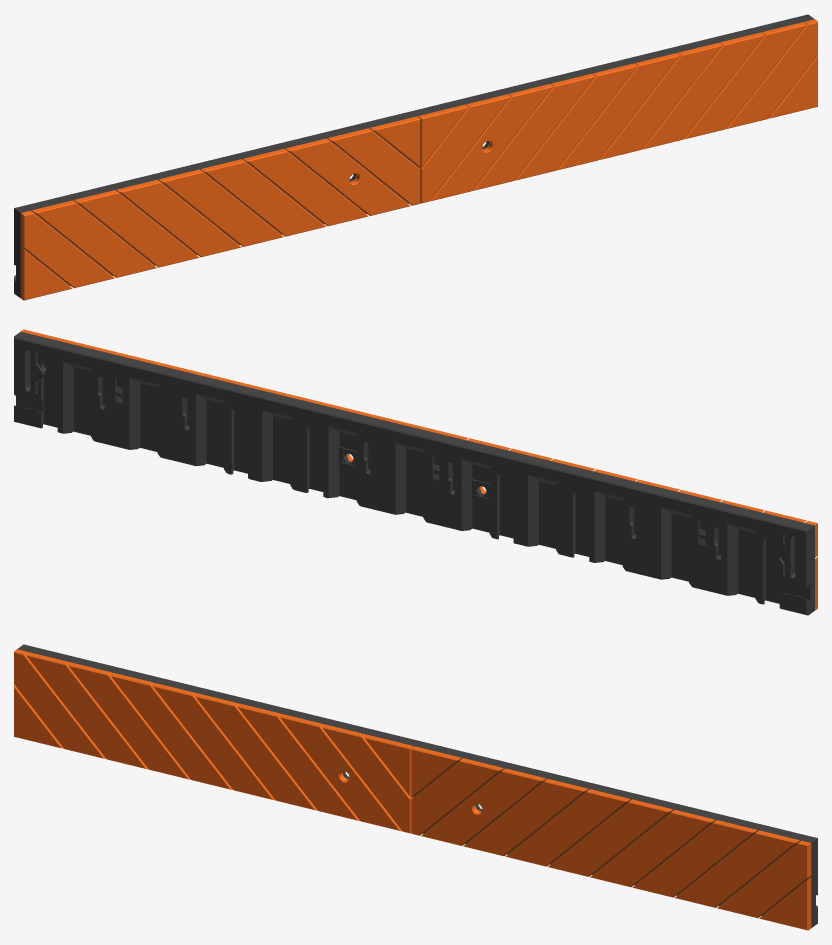
File: Faceplate_Chevron_3W-05H.lib.glb
The picture shows the model from 3 angles, top to bottom: view 1: azimuth 30°, elevation 25°; view 2: azimuth 150°, elevation 25°; view 3: azimuth 330°, elevation 25°; orthographic projection.
Parts seen in each view (by area): view 1: Faceplate_Chevron_3W-05H; view 2: Faceplate_Chevron_3W-05H; view 3: Faceplate_Chevron_3W-05H.
Boxes of the visible parts, <box> form: Faceplate_Chevron_3W-05H: <box>14,14,817,300</box>; Faceplate_Chevron_3W-05H: <box>14,329,817,615</box>; Faceplate_Chevron_3W-05H: <box>14,644,817,930</box>.
Size of the model in its own units: 263 by 27 by 6.2.
